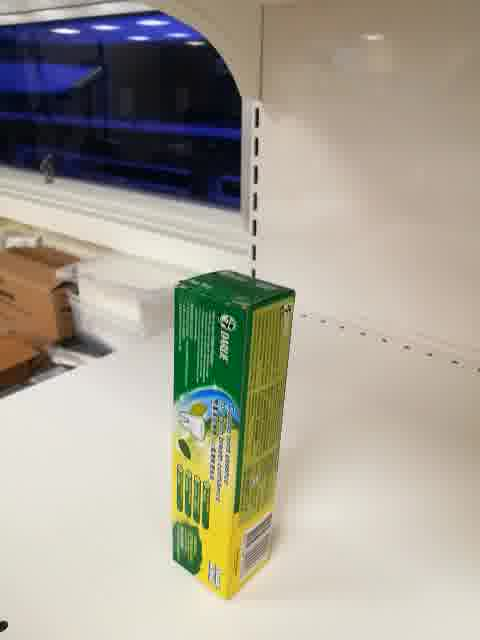toothpaste: (173, 270, 297, 602)
